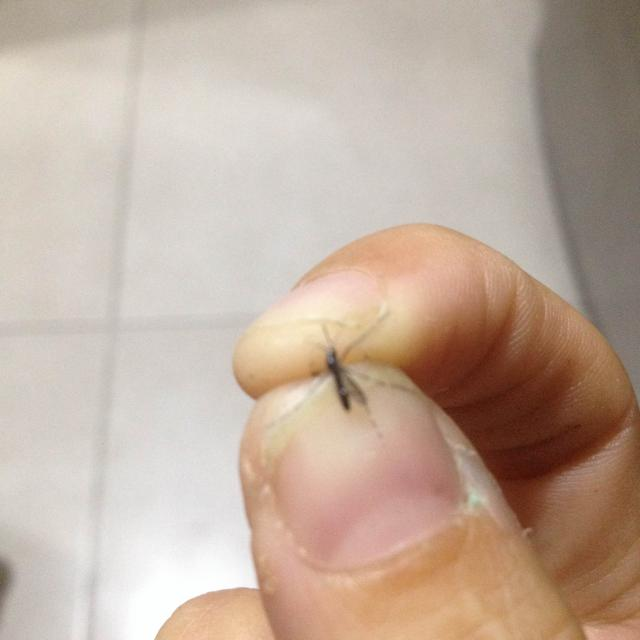albopictus: (266, 307, 388, 431)
